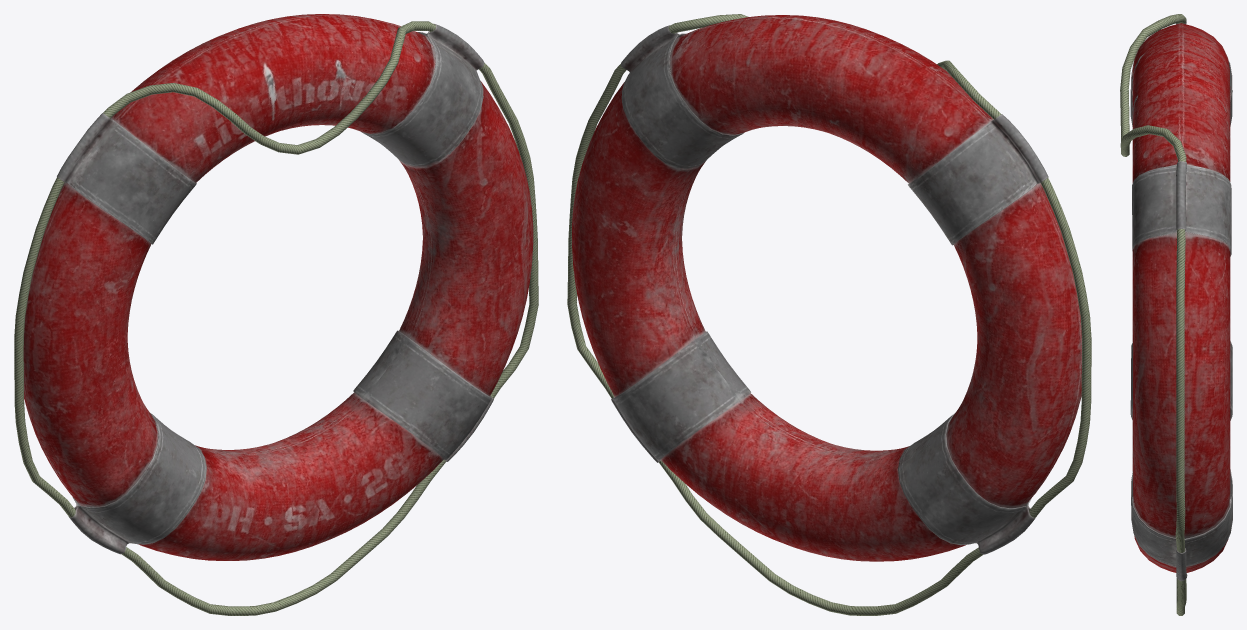
File: lifebuoy.glb
3 views of the same model, side by side, from view 1: azimuth 30°, elevation 25°; view 2: azimuth 150°, elevation 25°; view 3: azimuth 270°, elevation 25° (orthographic). The views are drawn at different scales.
Visible parts, largest first — view 1: lifebuoy; view 2: lifebuoy; view 3: lifebuoy.
Boxes of the visible parts, x1,y1,x2,y2 form: lifebuoy: (14, 14, 538, 615); lifebuoy: (567, 14, 1091, 615); lifebuoy: (1120, 14, 1232, 615).
Size of the model in its own units: 0.7831 by 0.8412 by 0.1551.
1 material, 1 textured.
